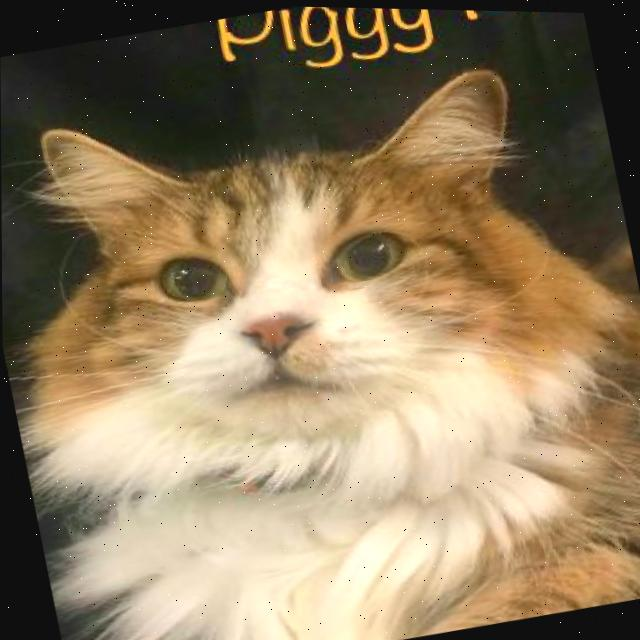Maine Coon: (0, 16, 640, 640)
